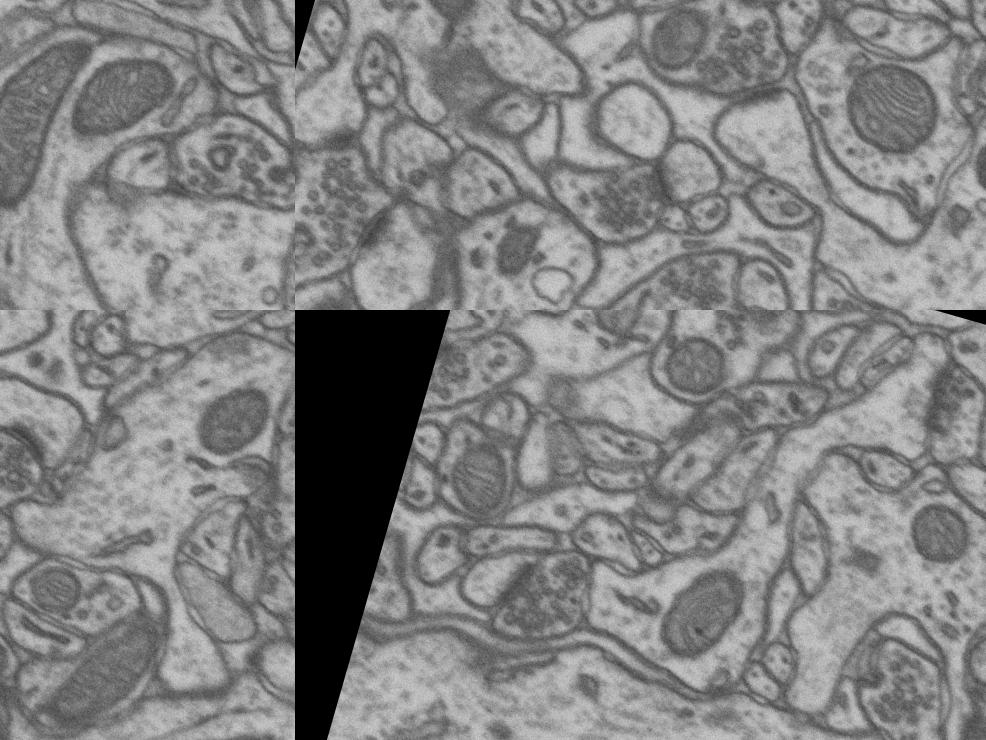mitochondria: (26, 584, 182, 740), (636, 538, 764, 684), (0, 17, 90, 222), (58, 36, 185, 169), (833, 46, 962, 175), (375, 0, 537, 80), (426, 430, 534, 540), (181, 361, 287, 472), (645, 310, 749, 416), (112, 691, 295, 740), (890, 487, 985, 580), (653, 0, 747, 76), (11, 550, 94, 624), (478, 232, 550, 307), (572, 310, 662, 365), (964, 134, 986, 310), (963, 331, 986, 414), (282, 233, 295, 307)
